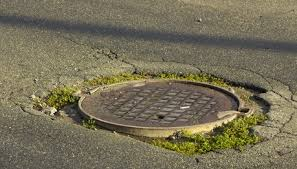Manhole-Closed: (63, 42, 268, 144)
